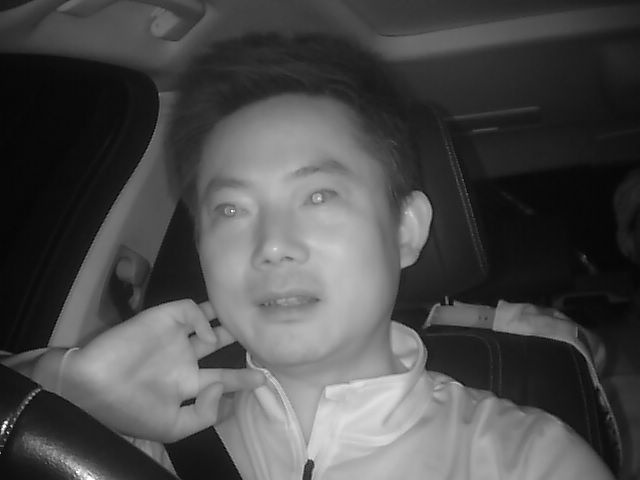hand: (84, 285, 243, 441)
